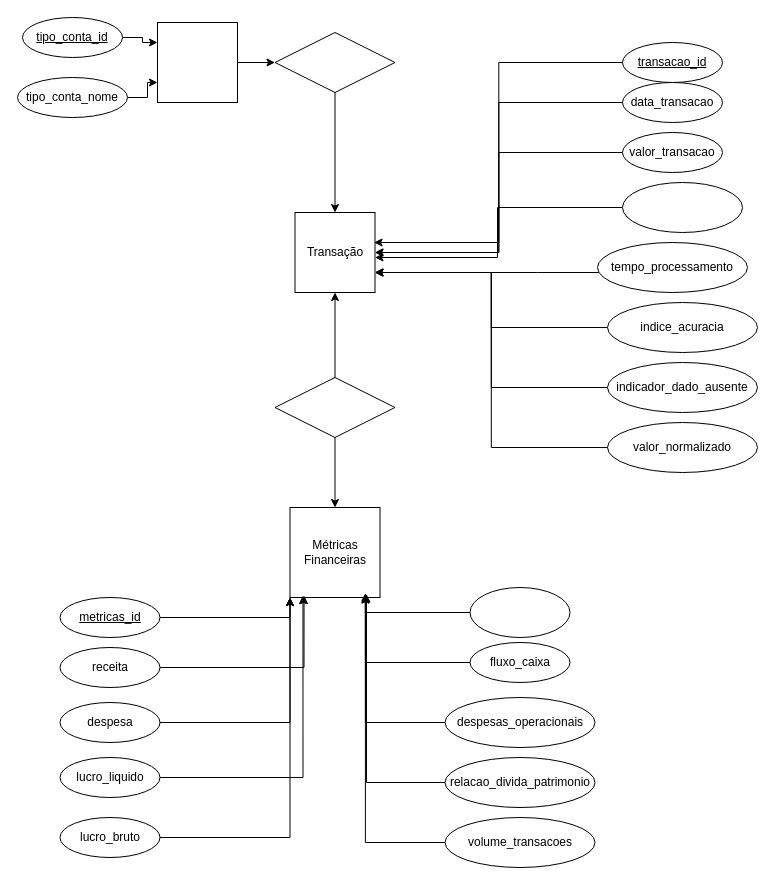
Some shapes in this 775 by 885 pixel diagram are drawn without their labels. The box of each missing label's shape, as (x1, y1, x2, y2) in pixels:
Classifica: (274, 32, 395, 92)
Gera: (274, 376, 395, 438)
margem_lucro: (469, 586, 570, 638)
resultado_transacao: (622, 182, 742, 232)
Tipo de Conta: (156, 22, 238, 102)
